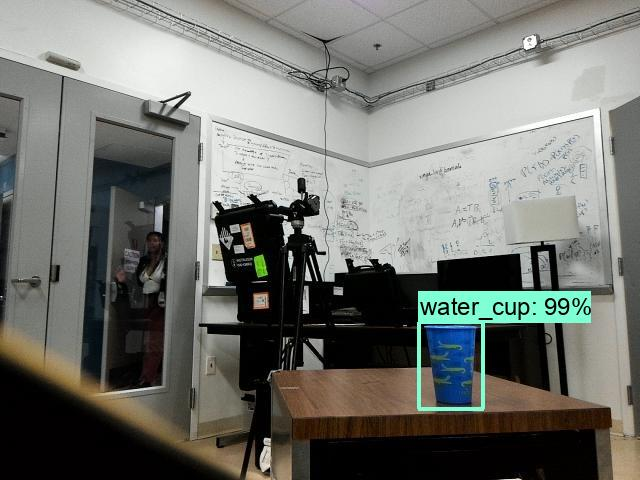water_cup: (417, 323, 479, 408)
